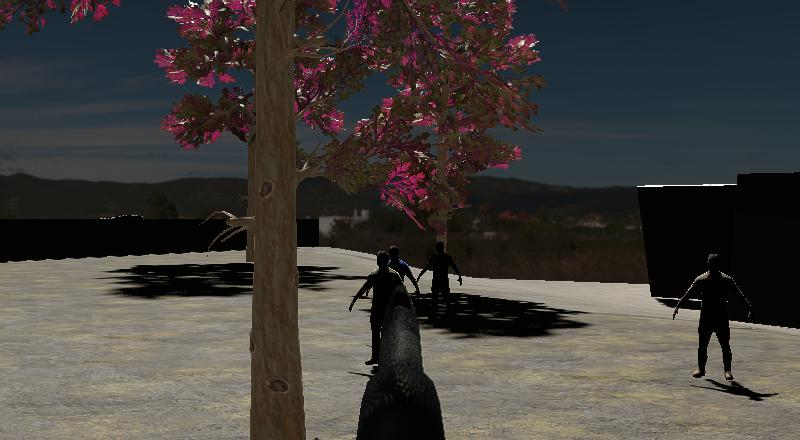Human: (670, 247, 755, 386)
